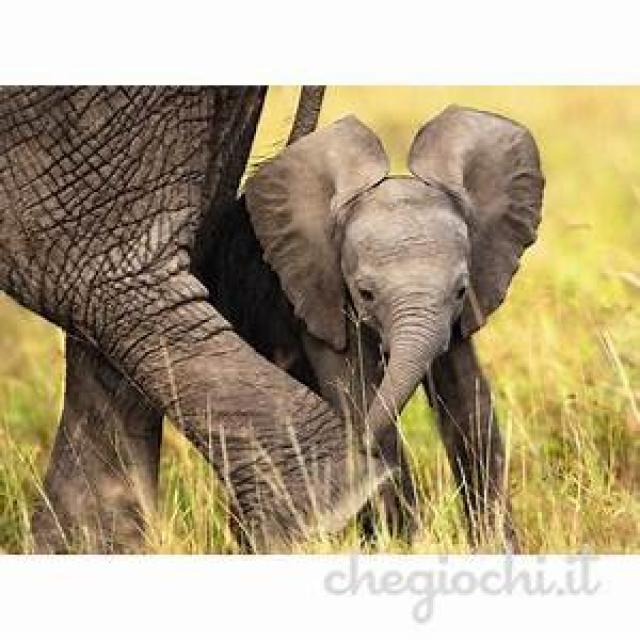elephant: (0, 85, 414, 555), (243, 105, 546, 550)
